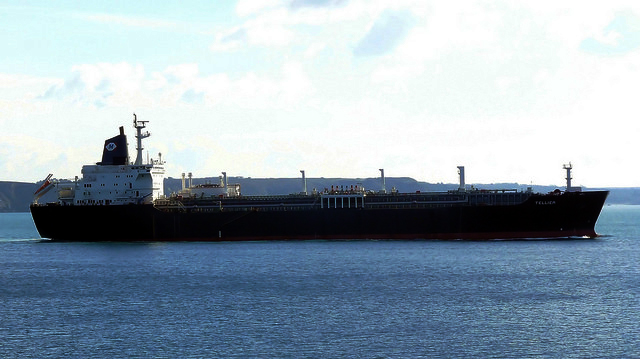LNG_ship: (36, 116, 609, 241)
